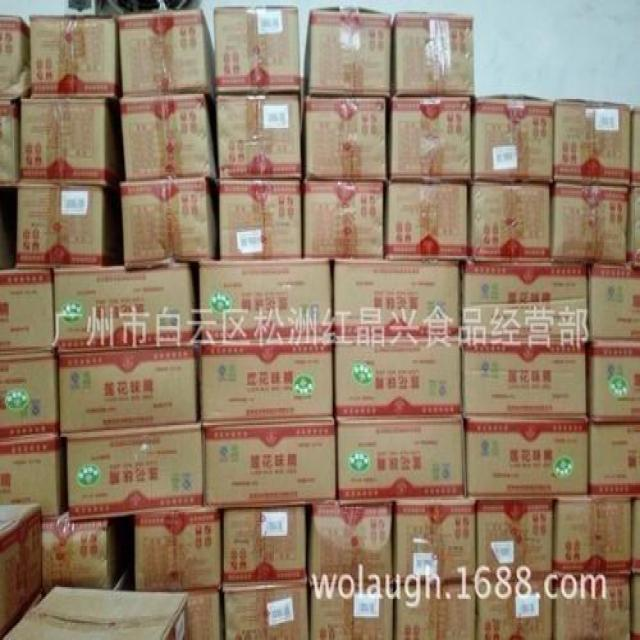box: (64, 414, 208, 522), (204, 414, 337, 515), (56, 256, 198, 350), (57, 340, 201, 430), (456, 329, 590, 424), (456, 258, 593, 348), (331, 328, 464, 418), (195, 331, 332, 418), (462, 414, 596, 502), (197, 260, 338, 338), (333, 419, 469, 499), (337, 256, 463, 341), (17, 98, 123, 192), (1, 588, 193, 638), (114, 95, 219, 186), (16, 183, 118, 275), (112, 177, 216, 266), (388, 492, 477, 594), (23, 9, 124, 96), (116, 13, 215, 101), (383, 92, 471, 189), (218, 90, 304, 188), (468, 171, 554, 268), (306, 85, 390, 184), (548, 168, 635, 262), (470, 94, 554, 190), (382, 172, 470, 263), (470, 496, 558, 586), (211, 176, 303, 262), (303, 176, 388, 269), (552, 94, 634, 190), (208, 13, 302, 95), (304, 502, 394, 586), (552, 494, 634, 586), (300, 12, 386, 99), (388, 10, 471, 94), (218, 508, 310, 582), (39, 513, 132, 586), (0, 496, 47, 640), (138, 519, 224, 596), (222, 571, 315, 640), (548, 571, 638, 640), (0, 348, 66, 441), (0, 433, 64, 526), (394, 570, 476, 640), (470, 572, 550, 640), (306, 580, 396, 640), (581, 338, 640, 425), (585, 260, 640, 352), (0, 270, 58, 356), (581, 413, 640, 497), (0, 14, 26, 110)
